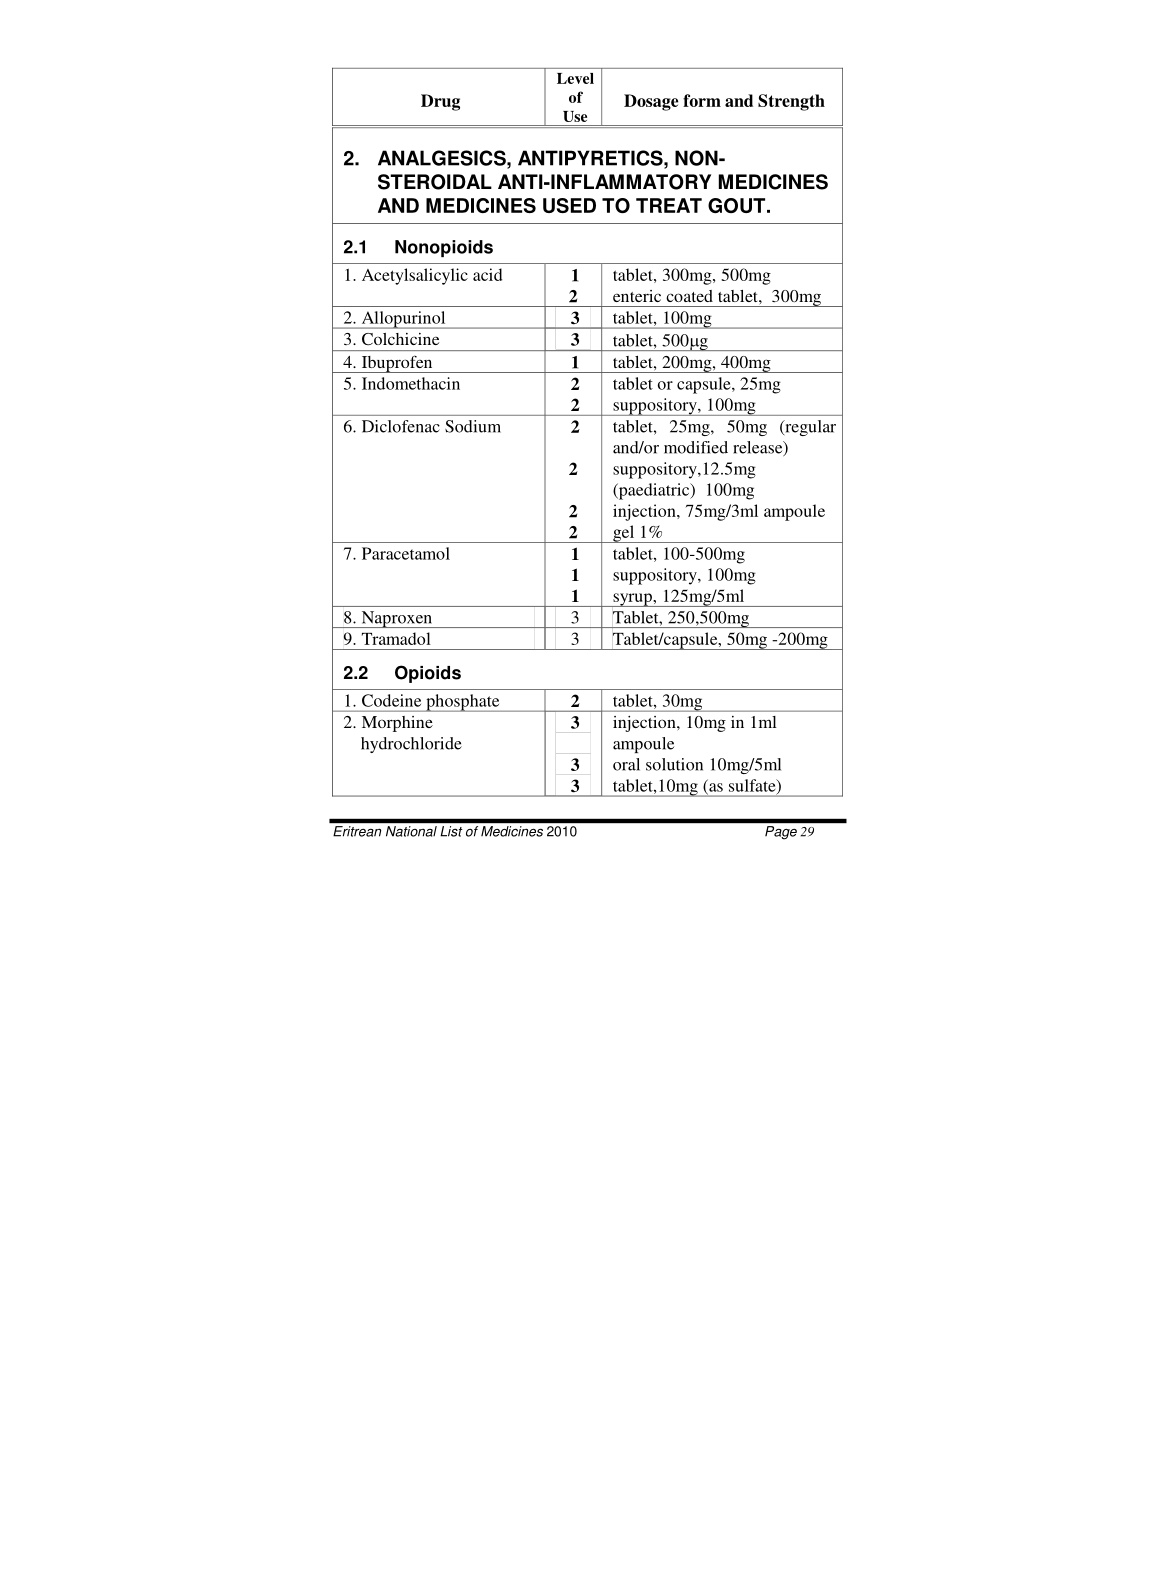merged_cells: (331, 65, 842, 798)
